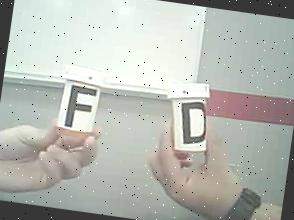Bottle D: (156, 78, 220, 158)
Bottle F: (50, 60, 111, 146)
